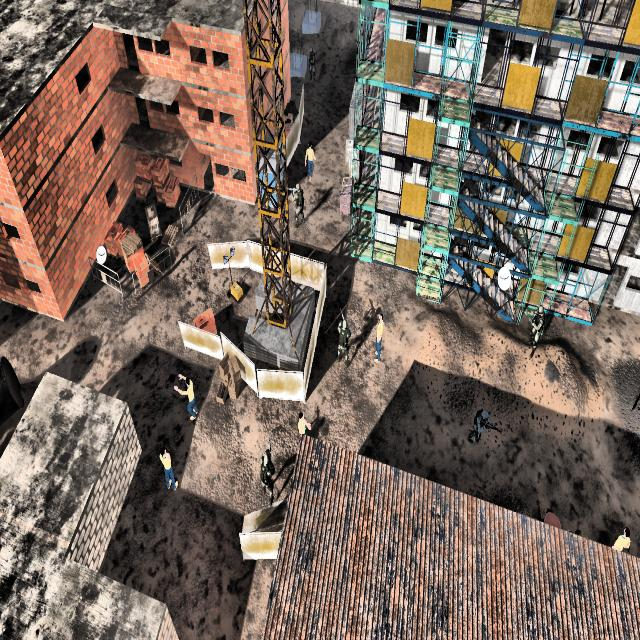bad: (462, 395, 501, 456), (524, 292, 550, 368), (254, 440, 280, 508), (333, 306, 354, 369), (289, 180, 308, 230)
good: (152, 440, 182, 506), (172, 370, 200, 428), (370, 304, 388, 368), (605, 513, 631, 553), (300, 137, 318, 190), (296, 401, 315, 438)
